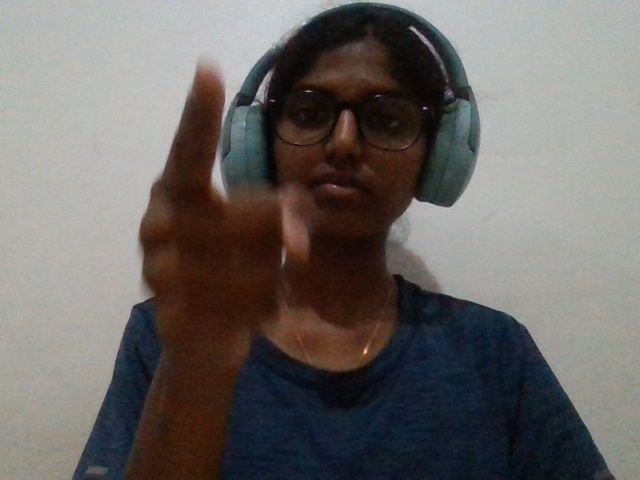You: (85, 43, 321, 409)
